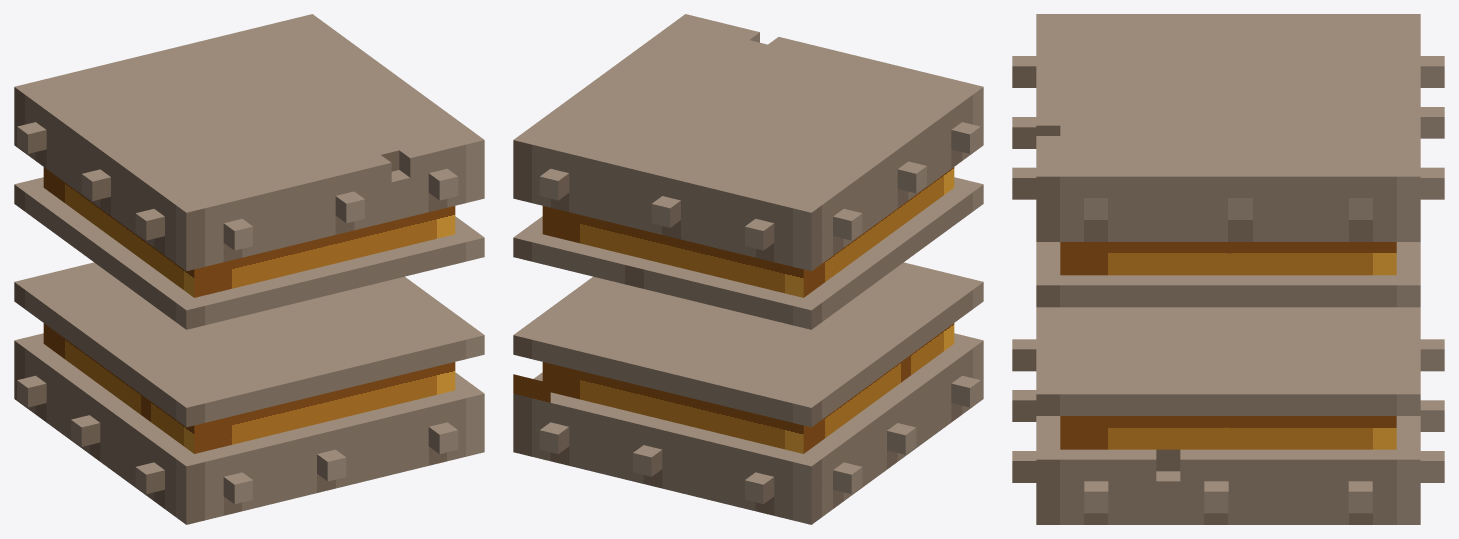
Rendered from pivot_base_yellowao.fezao.glb.
3 views of the same model, side by side, from view 1: azimuth 30°, elevation 25°; view 2: azimuth 150°, elevation 25°; view 3: azimuth 270°, elevation 25° (orthographic). The views are drawn at different scales.
Parts seen in each view (by area): view 1: PIVOT_BASE_YELLOWAO; view 2: PIVOT_BASE_YELLOWAO; view 3: PIVOT_BASE_YELLOWAO.
Part boxes in pixels (x1,y1,x2,y2): PIVOT_BASE_YELLOWAO: (14, 14, 484, 524); PIVOT_BASE_YELLOWAO: (513, 14, 983, 524); PIVOT_BASE_YELLOWAO: (1012, 14, 1444, 524).
Bounding box in the file's own units: 1.12 × 1 × 1.12.
1 material, 1 textured.
